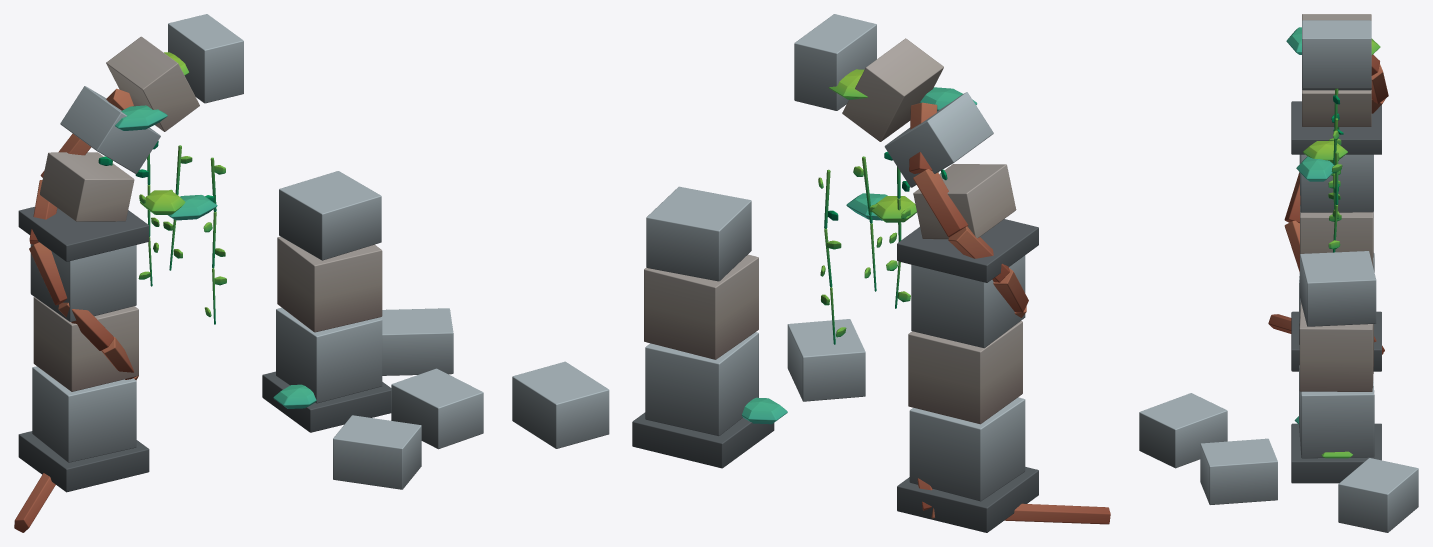
The model's file is temple_arch_ruin.glb.
3 views of the same model, side by side, from view 1: azimuth 30°, elevation 25°; view 2: azimuth 150°, elevation 25°; view 3: azimuth 270°, elevation 25° (orthographic). The views are drawn at different scales.
Parts seen in each view (by area): view 1: temple_arch_ruin; view 2: temple_arch_ruin; view 3: temple_arch_ruin.
Boxes of the visible parts, x1,y1,x2,y2 form: temple_arch_ruin: (14, 14, 483, 532); temple_arch_ruin: (512, 14, 1110, 532); temple_arch_ruin: (1139, 14, 1418, 532).
Size of the model in its own units: 7.68 by 6.31 by 4.01.
1 material, 1 textured.
